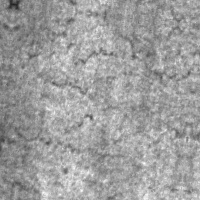crazing: (12, 99, 190, 188), (21, 38, 197, 109)
